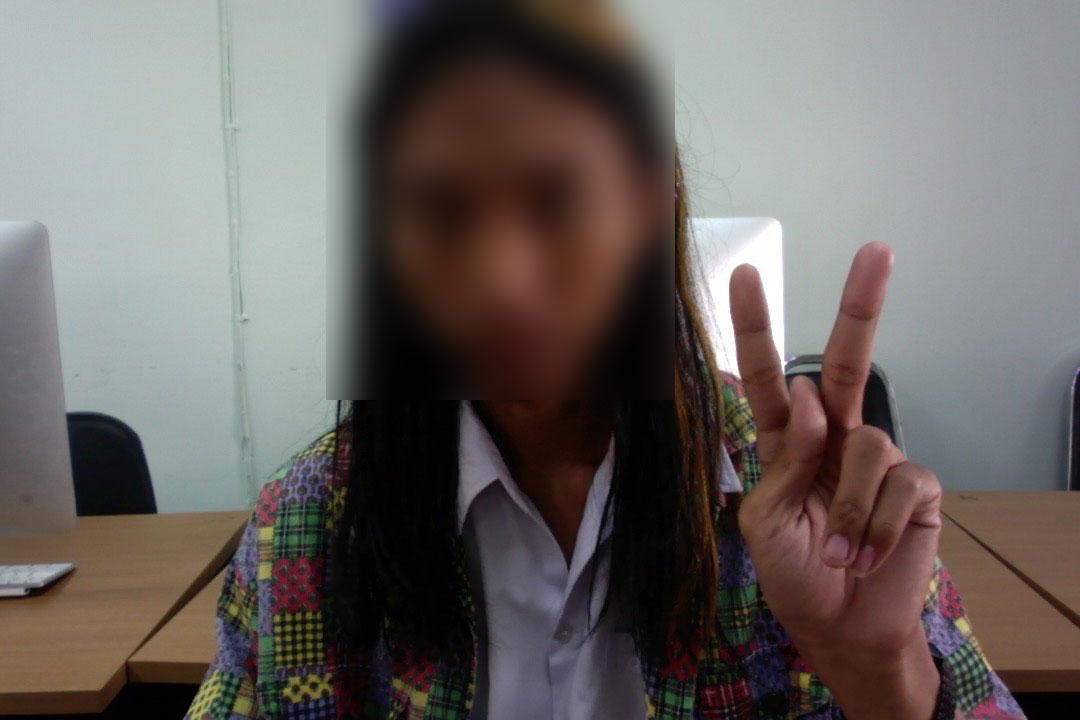ko: (728, 236, 943, 652)
